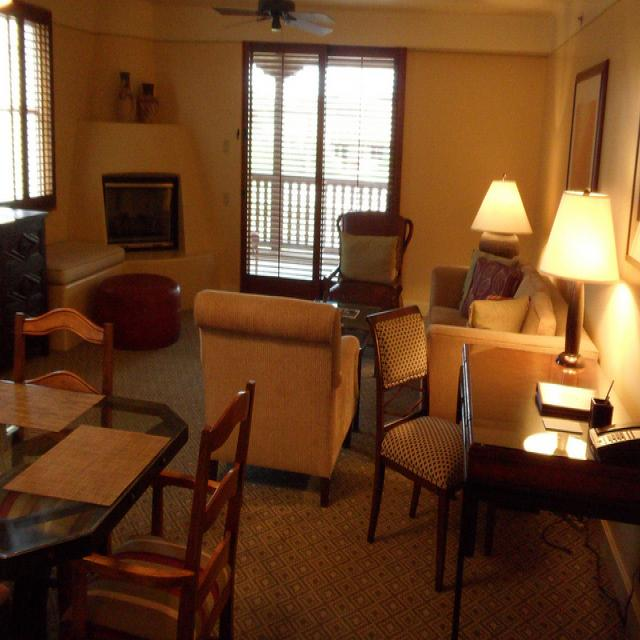chair: (62, 383, 255, 640), (196, 289, 362, 512), (365, 301, 465, 539), (323, 212, 414, 310), (15, 310, 116, 395)
dining table: (0, 378, 188, 575)
